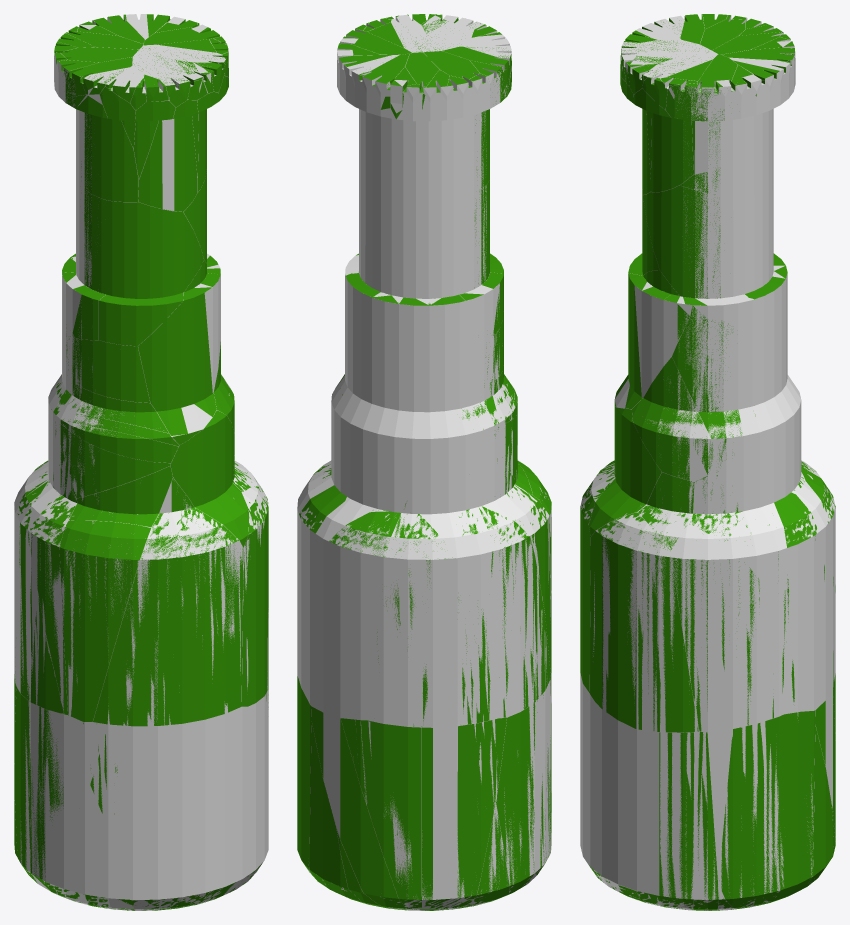
Rendered from BOTTLEv3.fbx.
3 renders of one model, left to right at view 1: azimuth 30°, elevation 25°; view 2: azimuth 150°, elevation 25°; view 3: azimuth 270°, elevation 25°, orthographic.
Visible parts, largest first — view 1: Cylinder, Cylinder_cell.096, Cylinder_cell.004, Cylinder_cell.019, Cylinder_cell.060, Cylinder_cell.068, Cylinder_cell.041, Cylinder_cell.042, Cylinder_cell.003, Cylinder_cell.072, Cylinder_cell.094, Cylinder_cell.092 (+20 smaller); view 2: Cylinder, Cylinder_cell.036, Cylinder_cell.089, Cylinder_cell.052, Cylinder_cell.058, Cylinder_cell.070, Cylinder_cell.005, Cylinder_cell.030, Cylinder_cell.085, Cylinder_cell.028, Cylinder_cell.031, Cylinder_cell.015 (+13 smaller); view 3: Cylinder, Cylinder_cell.030, Cylinder_cell.041, Cylinder_cell.081, Cylinder_cell.046, Cylinder_cell.068, Cylinder_cell.014, Cylinder_cell.011, Cylinder_cell.077, Cylinder_cell.084, Cylinder_cell.060, Cylinder_cell.096 (+15 smaller).
Part boxes in pixels (x1,y1,x2,y2): Cylinder: (14, 14, 268, 910); Cylinder_cell.096: (93, 478, 243, 726); Cylinder_cell.004: (59, 520, 150, 721); Cylinder_cell.019: (99, 200, 203, 346); Cylinder_cell.060: (138, 260, 220, 444); Cylinder_cell.068: (170, 410, 249, 547); Cylinder_cell.041: (241, 486, 268, 706); Cylinder_cell.042: (65, 95, 138, 201); Cylinder_cell.003: (138, 100, 197, 211); Cylinder_cell.072: (75, 338, 149, 402); Cylinder_cell.094: (55, 422, 170, 497); Cylinder_cell.092: (69, 466, 172, 527); Cylinder: (297, 14, 551, 910); Cylinder_cell.036: (341, 718, 421, 908); Cylinder_cell.089: (422, 717, 506, 909); Cylinder_cell.052: (311, 706, 405, 909); Cylinder_cell.058: (496, 707, 534, 894); Cylinder_cell.070: (309, 722, 369, 904); Cylinder_cell.005: (479, 506, 550, 717); Cylinder_cell.030: (297, 676, 315, 878); Cylinder_cell.085: (377, 503, 490, 726); Cylinder_cell.028: (497, 460, 550, 675); Cylinder_cell.031: (465, 813, 509, 907); Cylinder_cell.015: (329, 511, 400, 557); Cylinder: (580, 14, 835, 910); Cylinder_cell.030: (719, 710, 815, 908); Cylinder_cell.041: (589, 512, 698, 732); Cylinder_cell.081: (643, 185, 720, 318); Cylinder_cell.046: (632, 357, 720, 481); Cylinder_cell.068: (589, 406, 661, 536); Cylinder_cell.014: (636, 732, 694, 910); Cylinder_cell.011: (633, 88, 693, 192); Cylinder_cell.077: (672, 316, 755, 461); Cylinder_cell.084: (672, 557, 773, 731); Cylinder_cell.060: (614, 270, 689, 408); Cylinder_cell.096: (580, 464, 615, 692).
Bounding box in the file's own units: 200 × 706 × 200.
